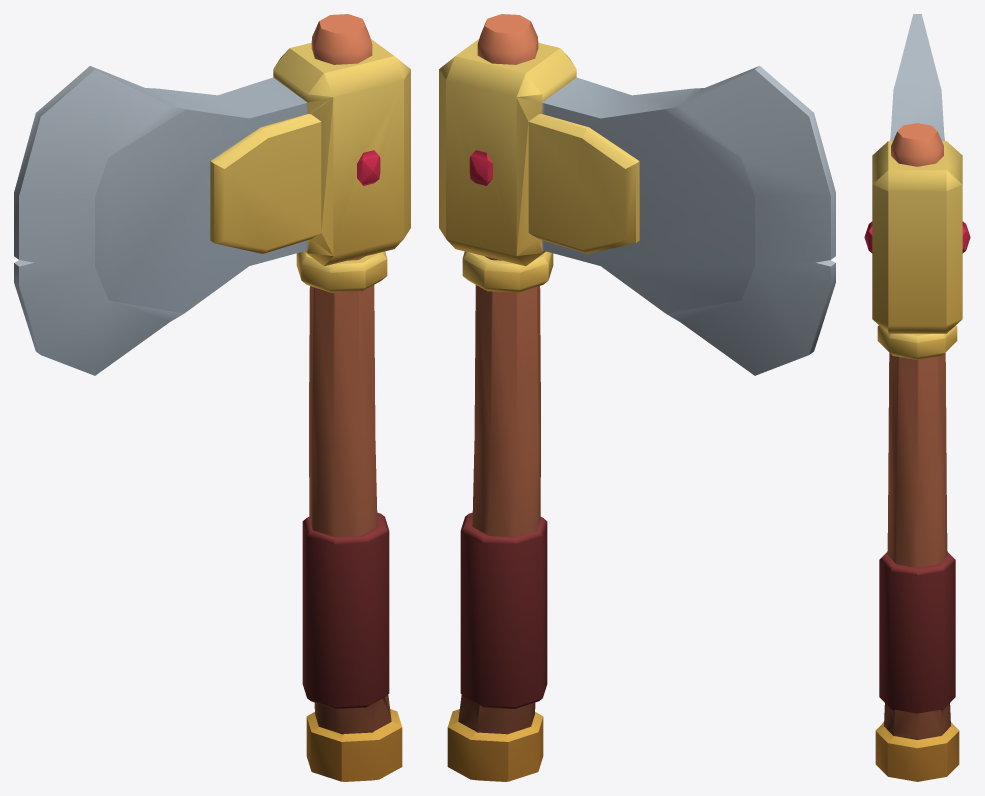
The model's file is axe_executioner.glb.
The picture shows the model from 3 angles, left to right: view 1: azimuth 30°, elevation 25°; view 2: azimuth 150°, elevation 25°; view 3: azimuth 270°, elevation 25°; orthographic projection. The views are drawn at different scales.
Parts seen in each view (by area): view 1: Item; view 2: Item; view 3: Item.
Part boxes in pixels (left/top/right/bottom): Item: left=14, top=14, right=410, bottom=781; Item: left=439, top=14, right=835, bottom=781; Item: left=864, top=14, right=970, bottom=781.
Bounding box in the file's own units: 0.7018 × 1.36 × 0.2.
Materials: 3 (3 with a texture image).
